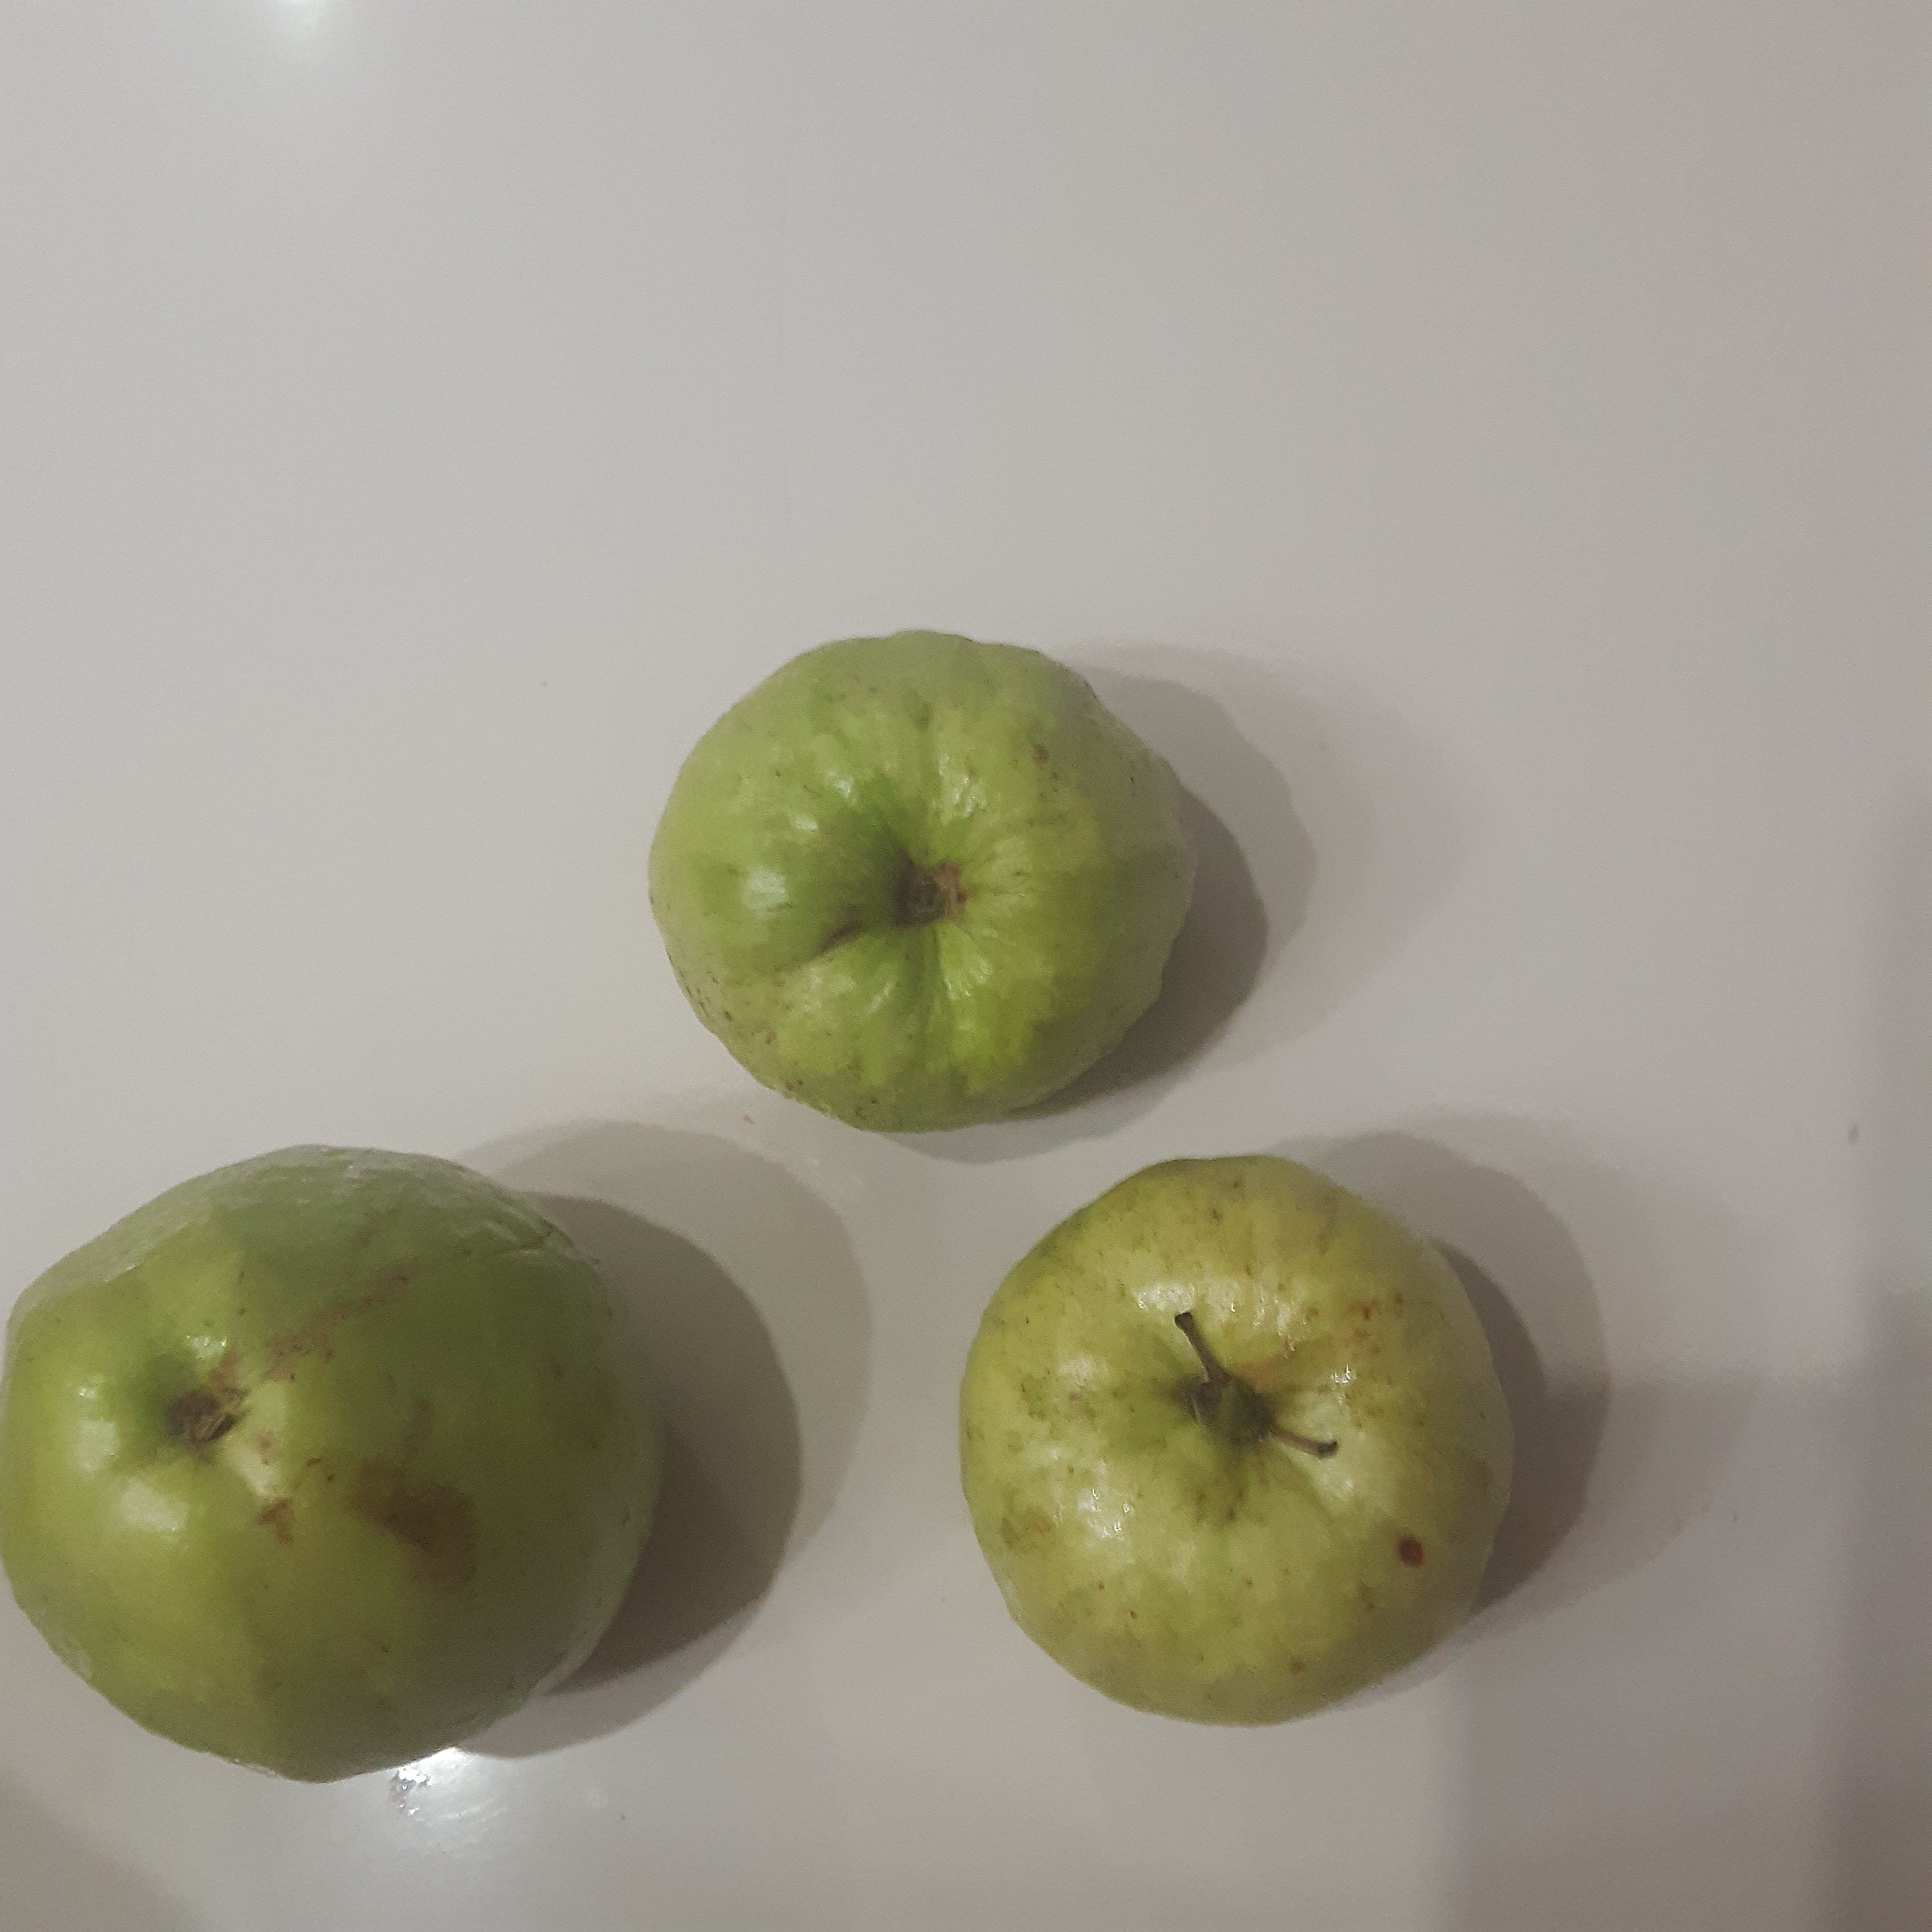Oi: (0, 1141, 661, 1784), (956, 1156, 1519, 1726), (649, 637, 1200, 1139)
